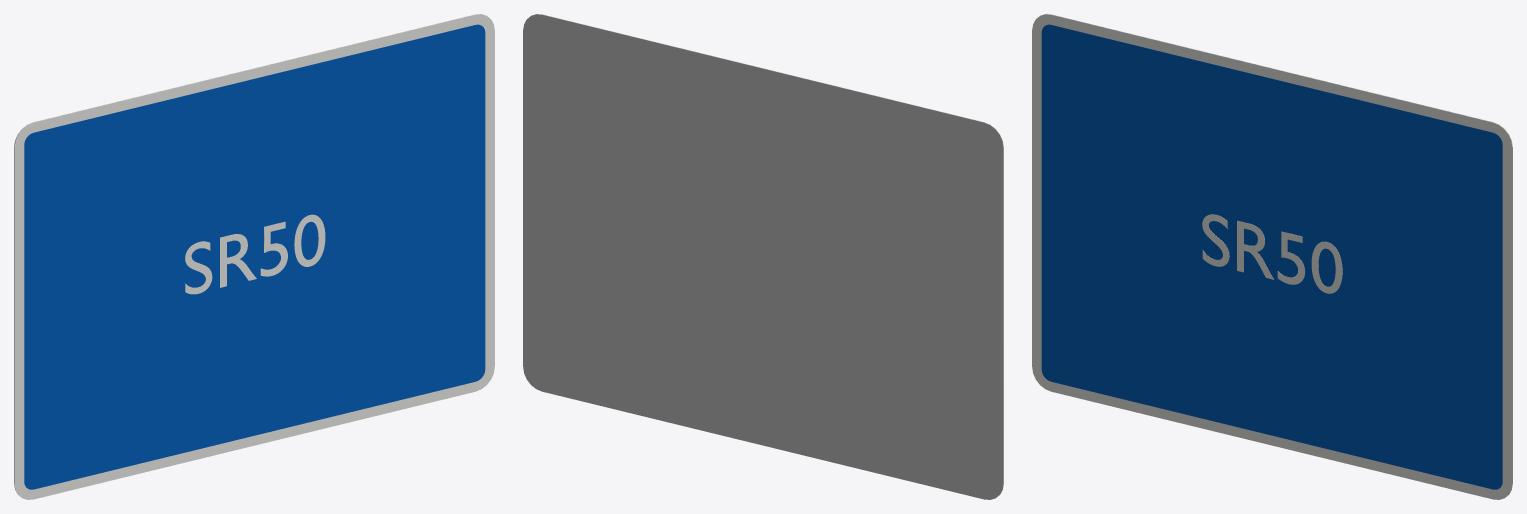
3 views of the same model, side by side, from view 1: azimuth 30°, elevation 25°; view 2: azimuth 150°, elevation 25°; view 3: azimuth 330°, elevation 25° (orthographic).
Visible parts, largest first — view 1: SR50_fond01, SR50_cadre00, SR50_txt02, SR50_dos; view 2: SR50_dos; view 3: SR50_fond01, SR50_cadre00, SR50_txt02, SR50_dos.
Part boxes in pixels (x1=…): SR50_fond01: x1=24, y1=24, x2=485, y2=489; SR50_cadre00: x1=14, y1=14, x2=494, y2=499; SR50_txt02: x1=185, y1=214, x2=325, y2=294; SR50_dos: x1=14, y1=14, x2=483, y2=493; SR50_dos: x1=523, y1=14, x2=1003, y2=499; SR50_fond01: x1=1041, y1=24, x2=1502, y2=489; SR50_cadre00: x1=1032, y1=14, x2=1512, y2=499; SR50_txt02: x1=1202, y1=214, x2=1342, y2=293; SR50_dos: x1=1043, y1=14, x2=1512, y2=493.
Bounding box in the file's own units: 1 × 0.75 × 0.0025.
